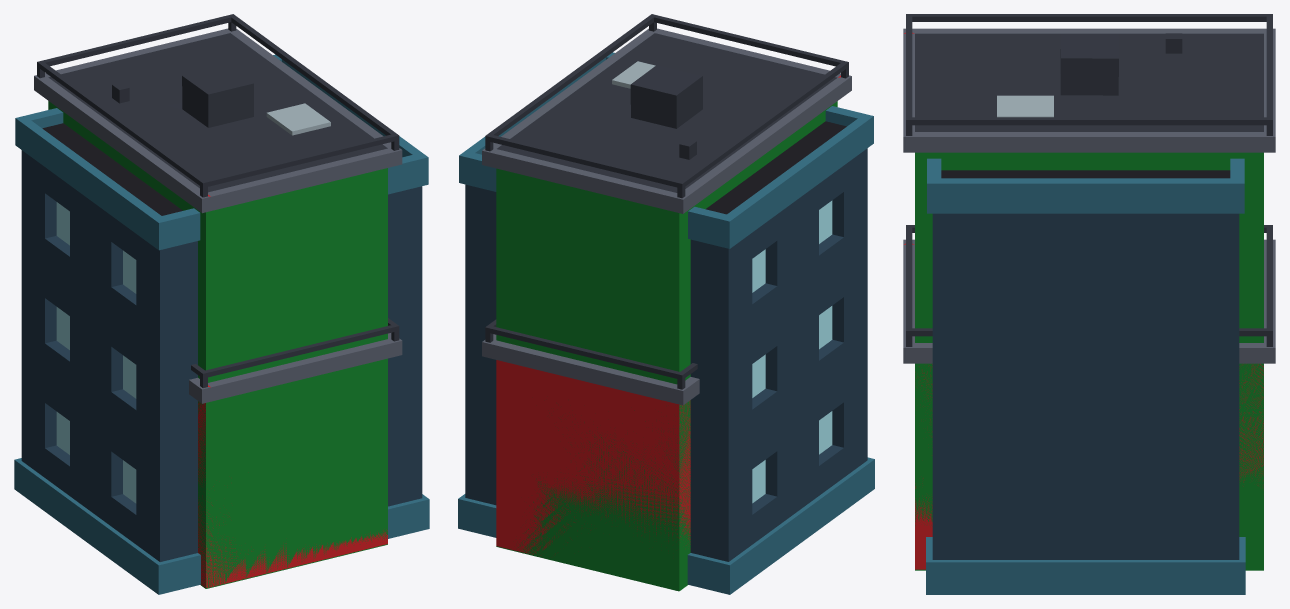
Rendered from Models.fbx.
The picture shows the model from 3 angles, left to right: view 1: azimuth 30°, elevation 25°; view 2: azimuth 150°, elevation 25°; view 3: azimuth 270°, elevation 25°; orthographic projection. The views are drawn at different scales.
Parts seen in each view (by area): view 1: House Middle, House Middle 2, House Funny; view 2: House Middle, House Middle 2, House Funny; view 3: House Middle 2, House Middle, House Funny.
Boxes of the visible parts, x1,y1,x2,y2 form: House Middle: [34, 14, 402, 588]; House Middle 2: [14, 54, 429, 594]; House Funny: [189, 318, 402, 587]; House Middle: [482, 14, 851, 591]; House Middle 2: [458, 52, 874, 594]; House Funny: [482, 319, 699, 555]; House Middle 2: [926, 33, 1245, 594]; House Middle: [903, 14, 1275, 570]; House Funny: [903, 225, 1275, 569].
Bounding box in the file's own units: 5.95 × 9.04 × 6.4.
